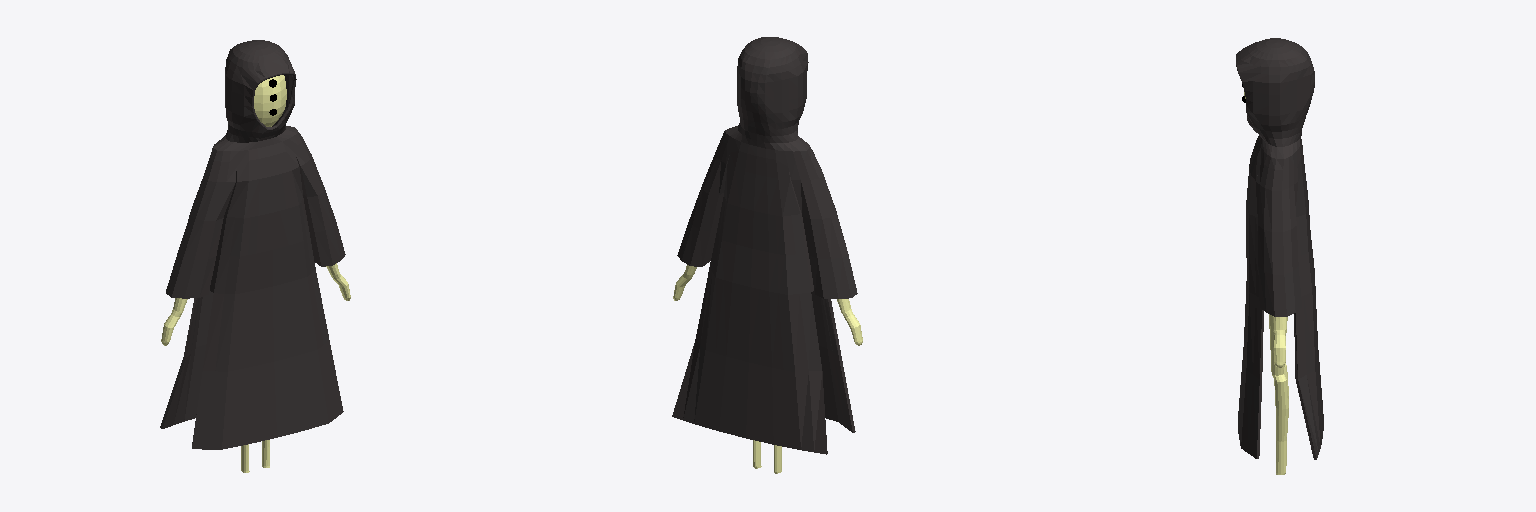
The model's file is Allin_body_0227_1.obj.
3 renders of one model, left to right at view 1: azimuth 30°, elevation 25°; view 2: azimuth 150°, elevation 25°; view 3: azimuth 270°, elevation 25°, orthographic.
Parts seen in each view (by area): view 1: Cone, Cube_Cube.001; view 2: Cone, Cube_Cube.001; view 3: Cone, Cube_Cube.001.
Part boxes in pixels (left/top/right/bottom): Cone: left=160, top=40, right=345, bottom=449; Cube_Cube.001: left=161, top=75, right=350, bottom=472; Cone: left=672, top=37, right=857, bottom=454; Cube_Cube.001: left=673, top=265, right=862, bottom=473; Cone: left=1236, top=38, right=1323, bottom=459; Cube_Cube.001: left=1244, top=92, right=1288, bottom=474.
Size of the model in its own units: 0.698 by 1.51 by 0.2836.